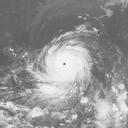cyclone: (42, 43, 91, 87)
